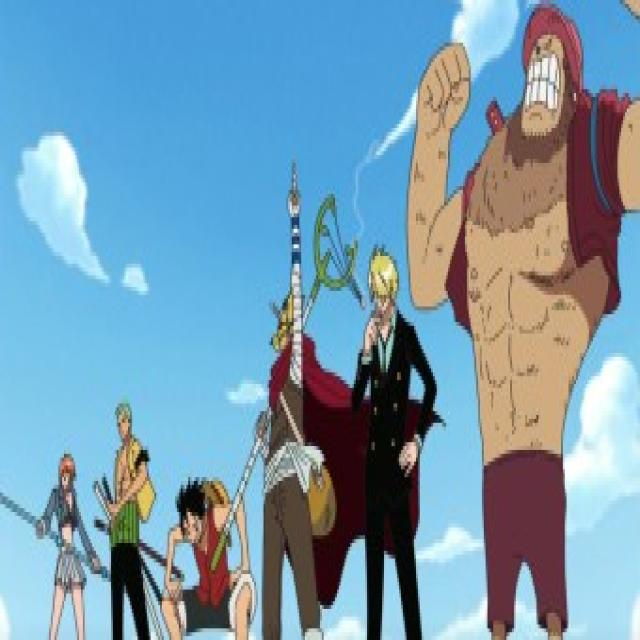Chyopa: (508, 2, 588, 147)
Luffy: (172, 461, 220, 553)
Nami: (55, 446, 81, 502)
Sangdi: (363, 226, 403, 342)
Usopp: (262, 290, 302, 372)
Zoro: (109, 395, 136, 454)
